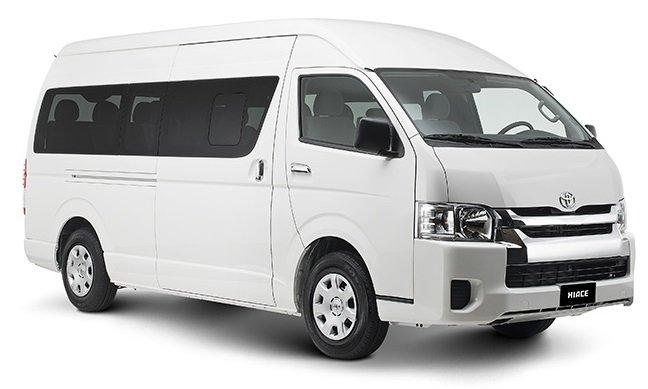van: (22, 17, 636, 361)
